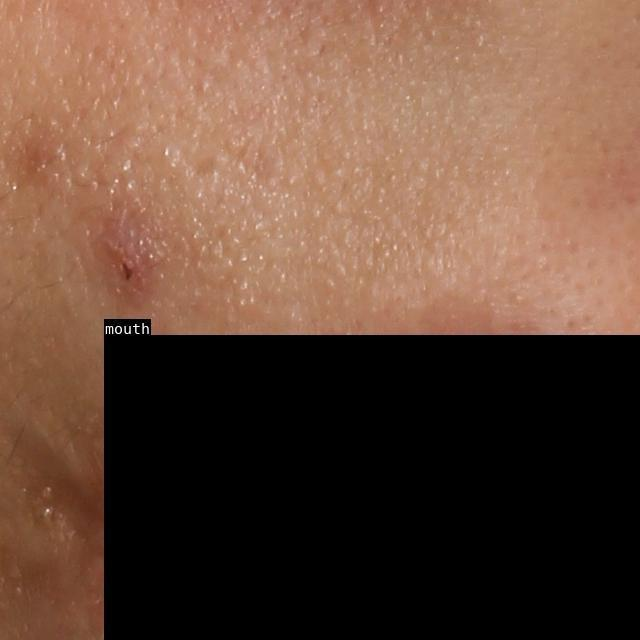papule: (98, 223, 165, 298)
